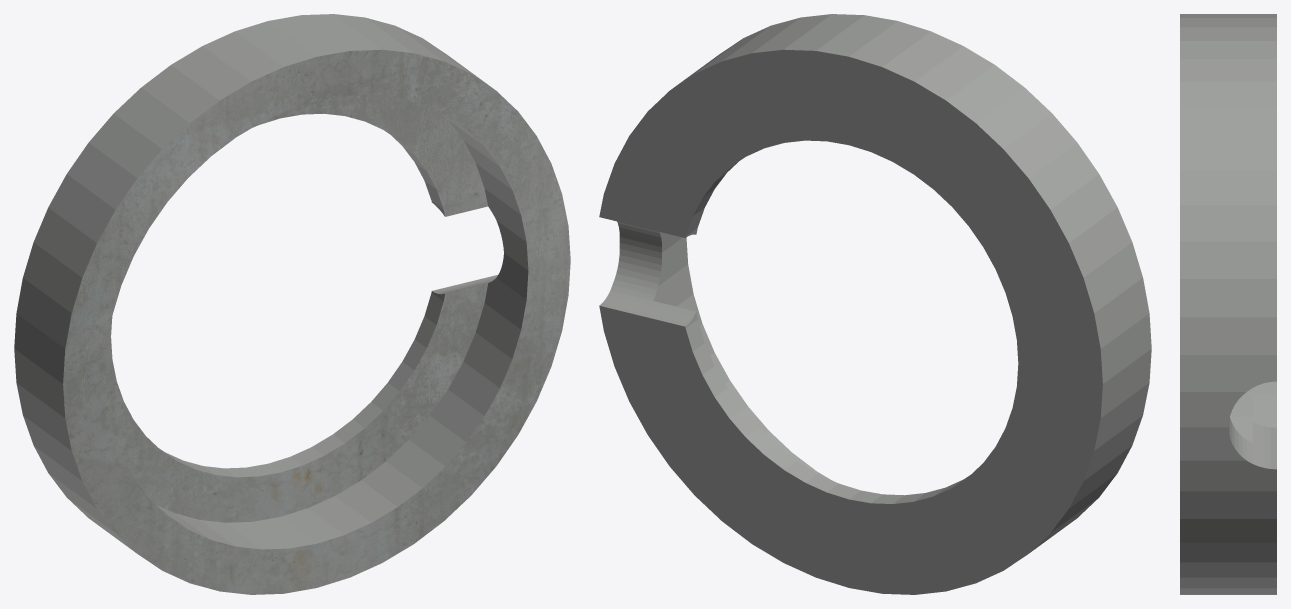
File: pool_031.obj
The picture shows the model from 3 angles, left to right: view 1: azimuth 30°, elevation 25°; view 2: azimuth 150°, elevation 25°; view 3: azimuth 270°, elevation 25°; orthographic projection.
Bounding box in the file's own units: 12 × 12 × 2.
